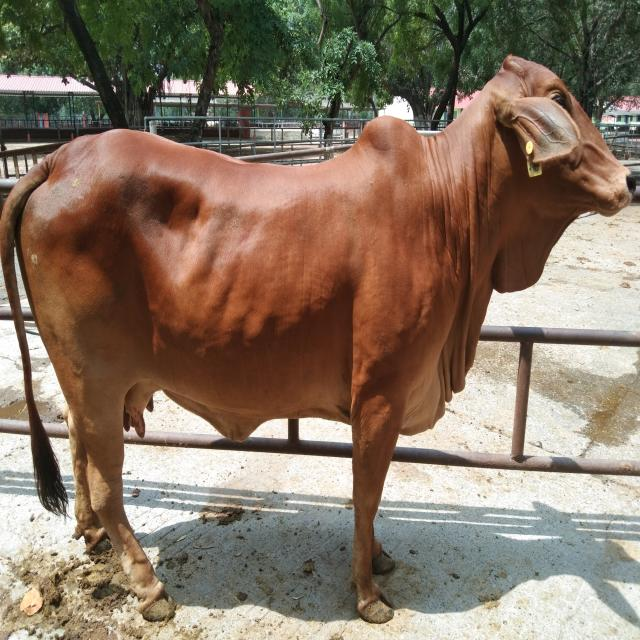cow: (0, 53, 636, 626)
hump: (358, 114, 421, 156)
